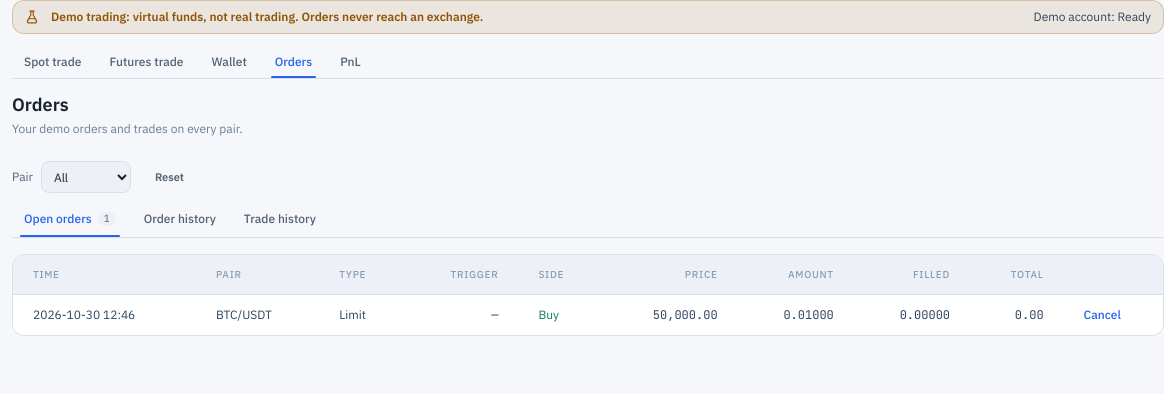
Test case: Demo orders page (TR-F3) › lists open orders, cancels one and shows the history by status
Expected: the number of rows is 2, [13,255,1163,294]; [13,295,1163,335]
Click the button with aria-label "Cancel order".
click(1102, 315)  # box [1084,307,1121,323]
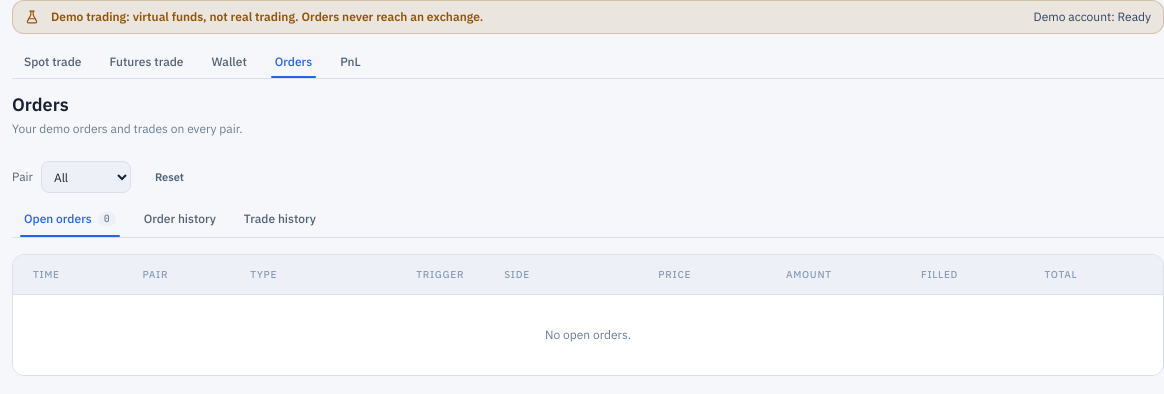
Result: the element "open orders" shows "No open orders." at [545,327,631,342]
Click the tab "Order history".
click(180, 219)  # box [132,201,228,237]
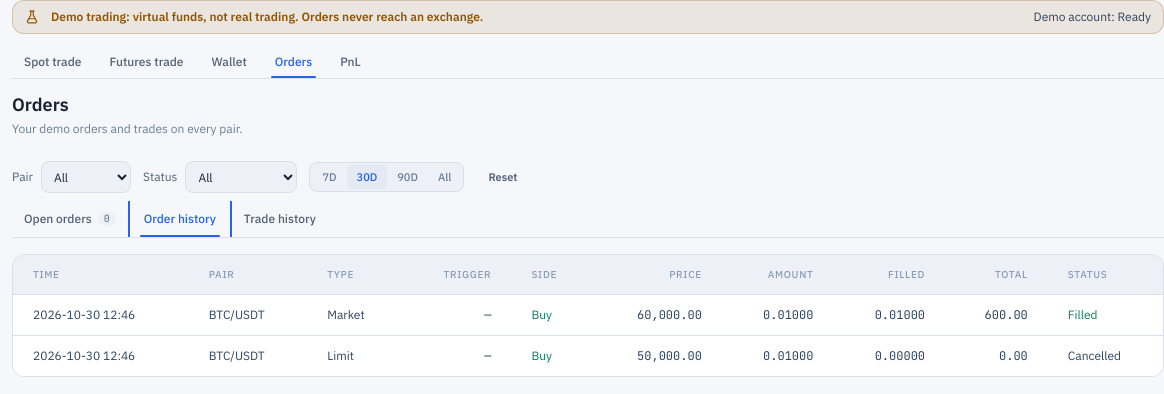
Result: the number of rows is 3 at [13,255,1163,294]; [13,295,1163,336]; [13,336,1163,376]
Select "Filled" in the dropdown labelled "Status" at [241, 177], box [185,161,297,193]
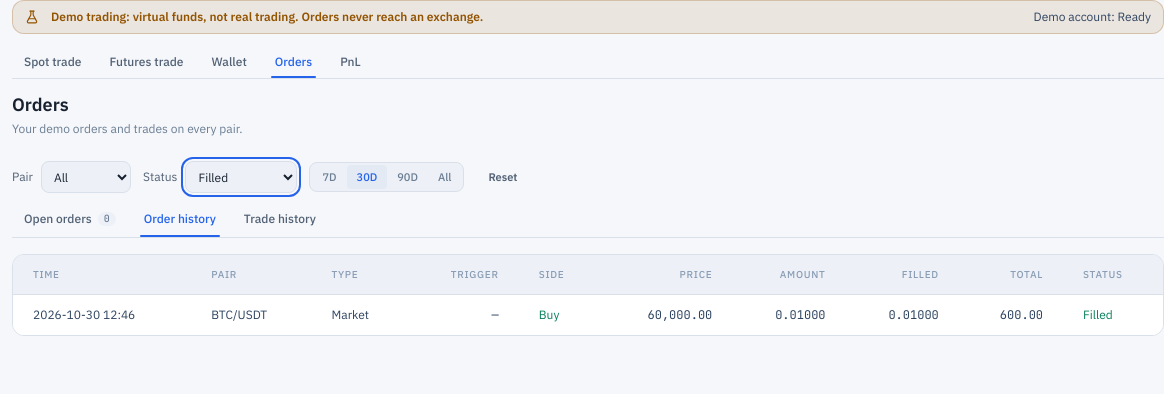
Result: the number of rows is 2 at [13,255,1163,294]; [13,295,1163,335]
Click the tab "Trade history".
click(280, 219)  # box [232,201,328,237]
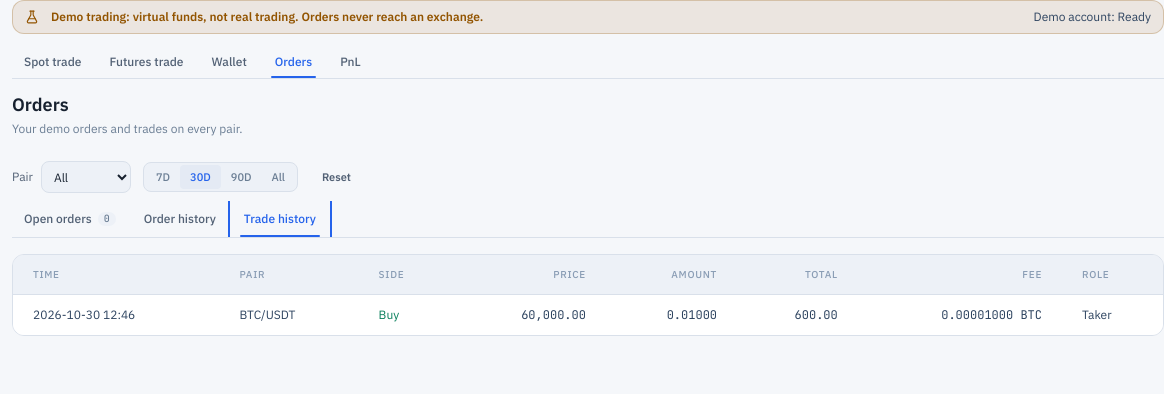
Result: the element named "Trade history" shows "Taker" at [1082,307,1112,322]
